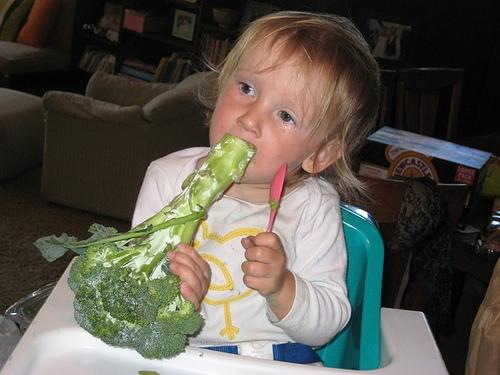broccoli: (33, 134, 257, 360)
